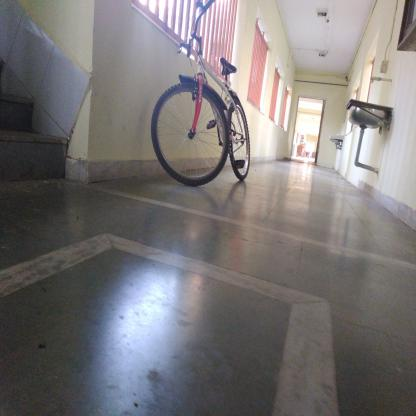stairs: (1, 95, 36, 196)
